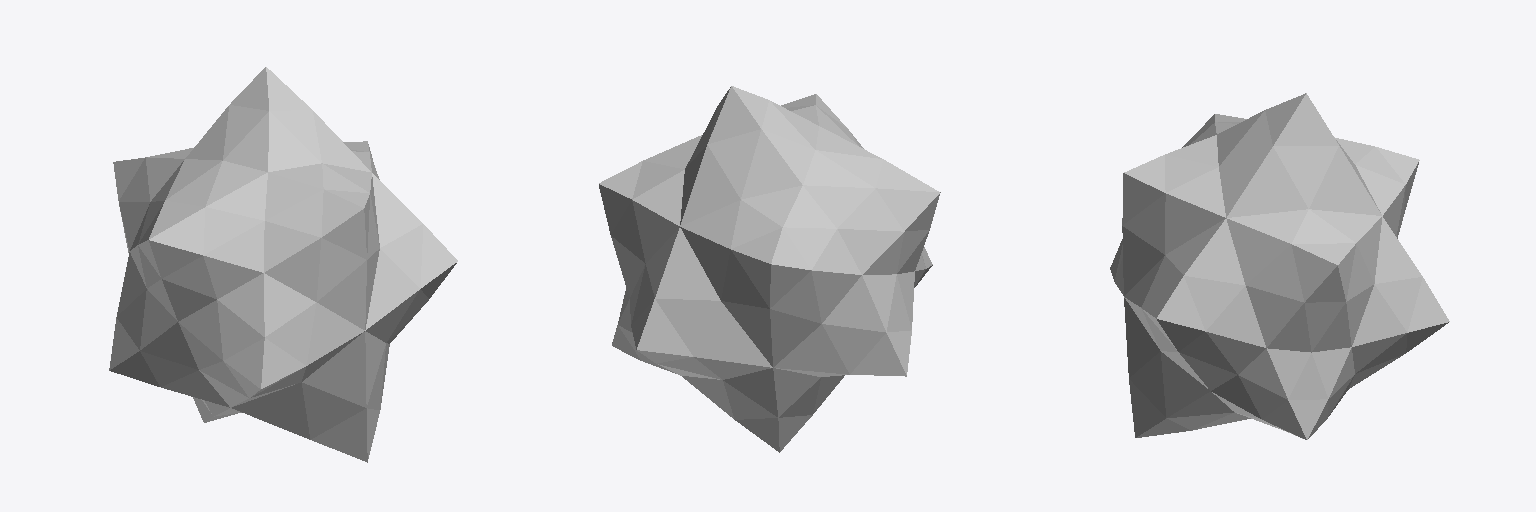
Rendered from starbit.obj.
3 views of the same model, side by side, from view 1: azimuth 30°, elevation 25°; view 2: azimuth 150°, elevation 25°; view 3: azimuth 270°, elevation 25° (orthographic).
Visible parts, largest first — view 1: starbit; view 2: starbit; view 3: starbit.
Part boxes in pixels (bbox=[...]): starbit: bbox=[109, 67, 457, 462]; starbit: bbox=[599, 86, 940, 452]; starbit: bbox=[1110, 93, 1449, 439].
Size of the model in its own units: 0.7053 by 0.822 by 0.7268.